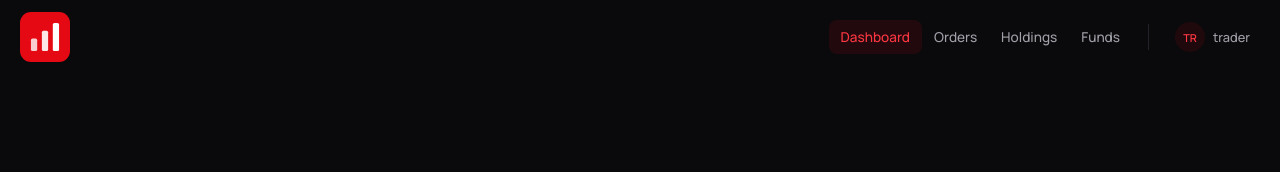
Test: the account dropdown › a click outside closes it
The width and height of the screenshot is (1280, 172).
Click the button "TR trader" at (1212, 37), box x1=1165 y1=16 x2=1260 y2=58
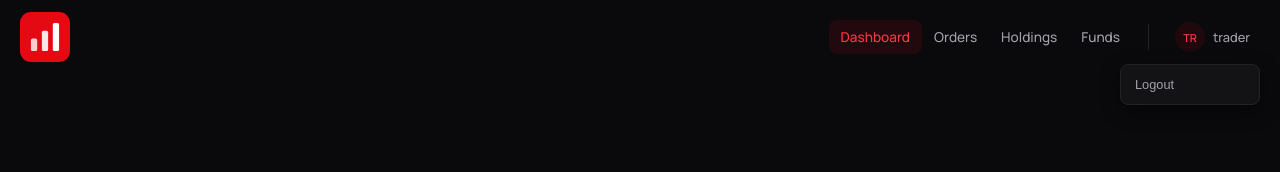
Press the mouse on the element showing "Dashboard Orders Holdings Funds TR trader Logout" at (640, 37), box x1=0 y1=12 x2=1279 y2=62
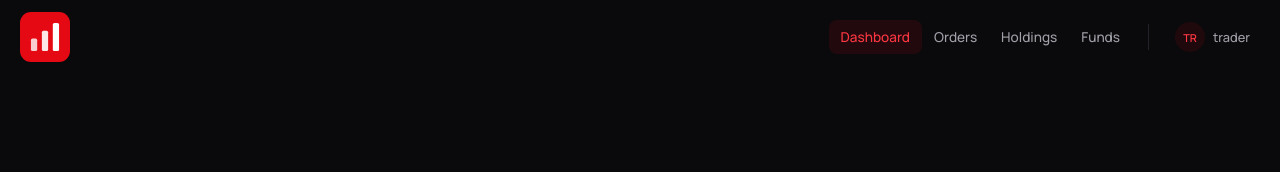
Result: the button "Logout" is gone
